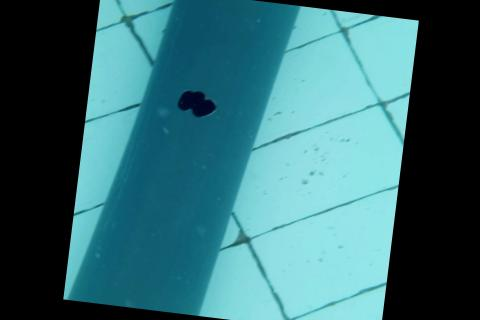kebocoran: (172, 87, 219, 121)
